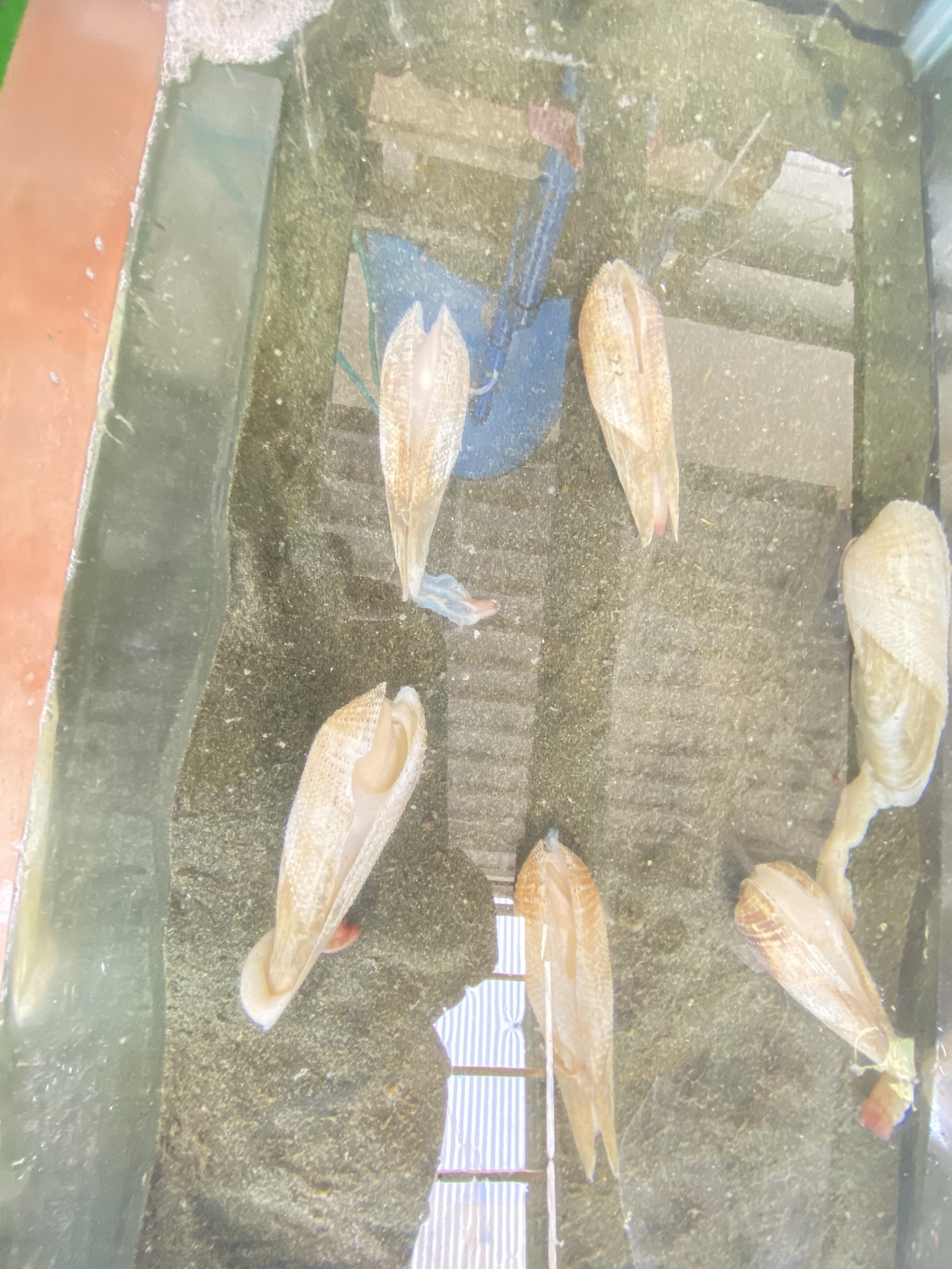At risk: (240, 684, 426, 1028), (816, 500, 952, 931), (735, 862, 915, 1136), (379, 302, 496, 625), (515, 835, 617, 1180), (580, 260, 678, 547)
